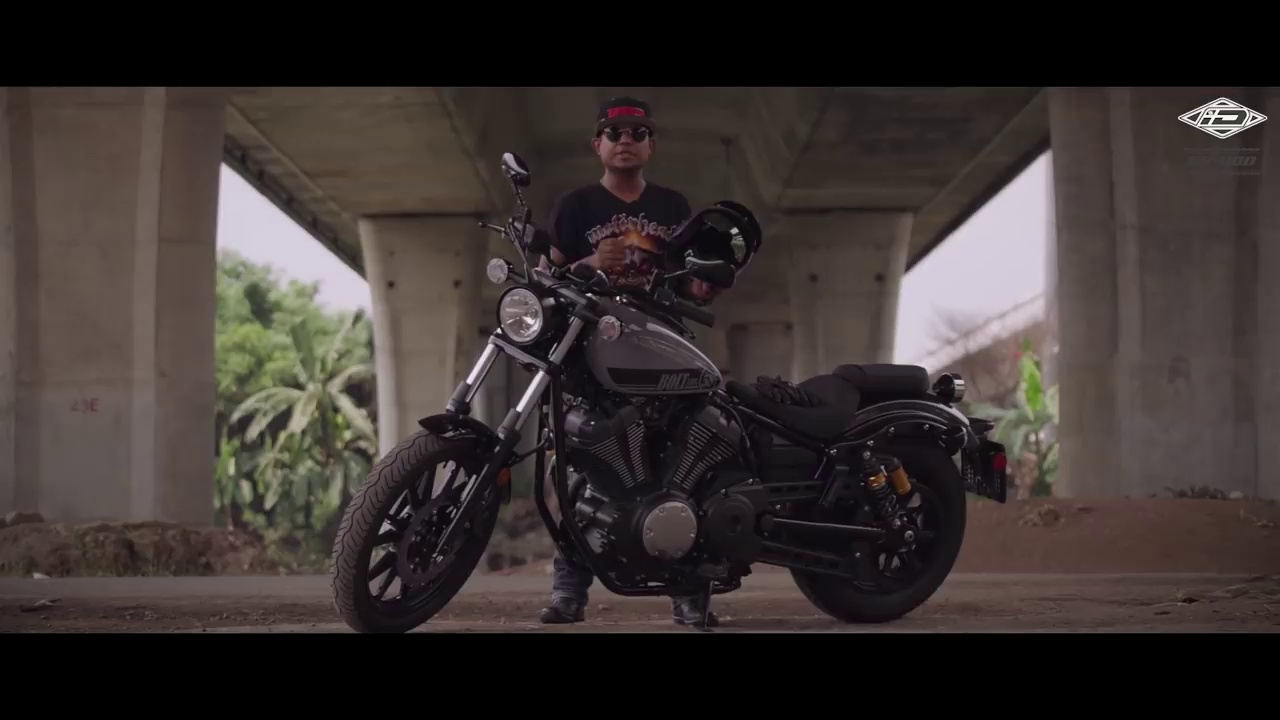helmet: (676, 194, 770, 270)
